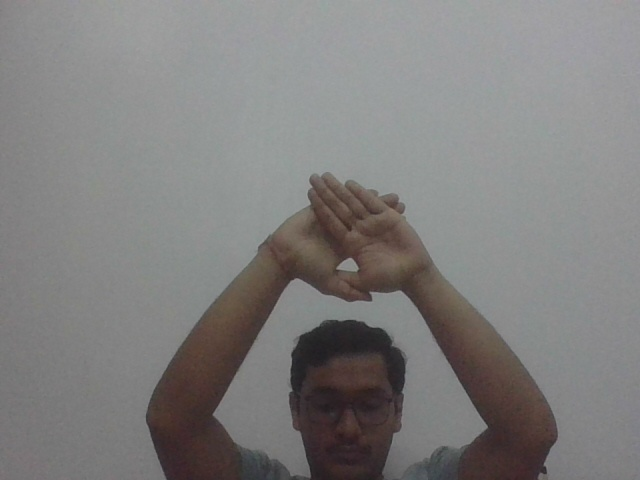W: (267, 169, 441, 306)
